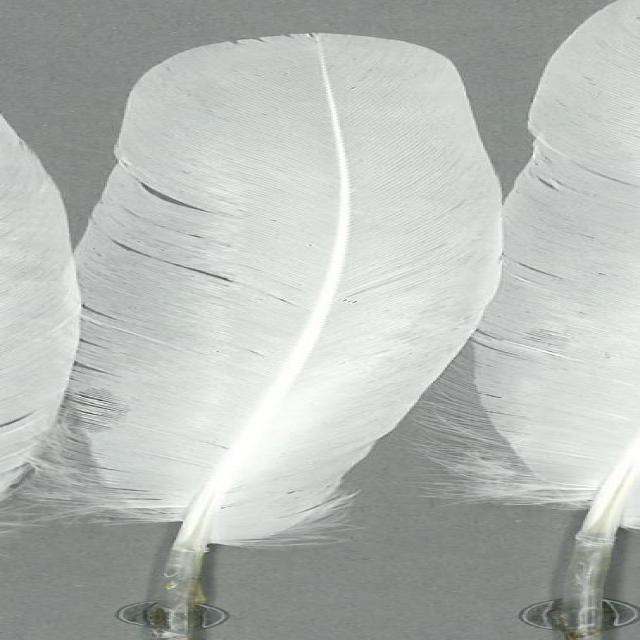feather: (52, 33, 496, 640), (466, 0, 640, 640)
